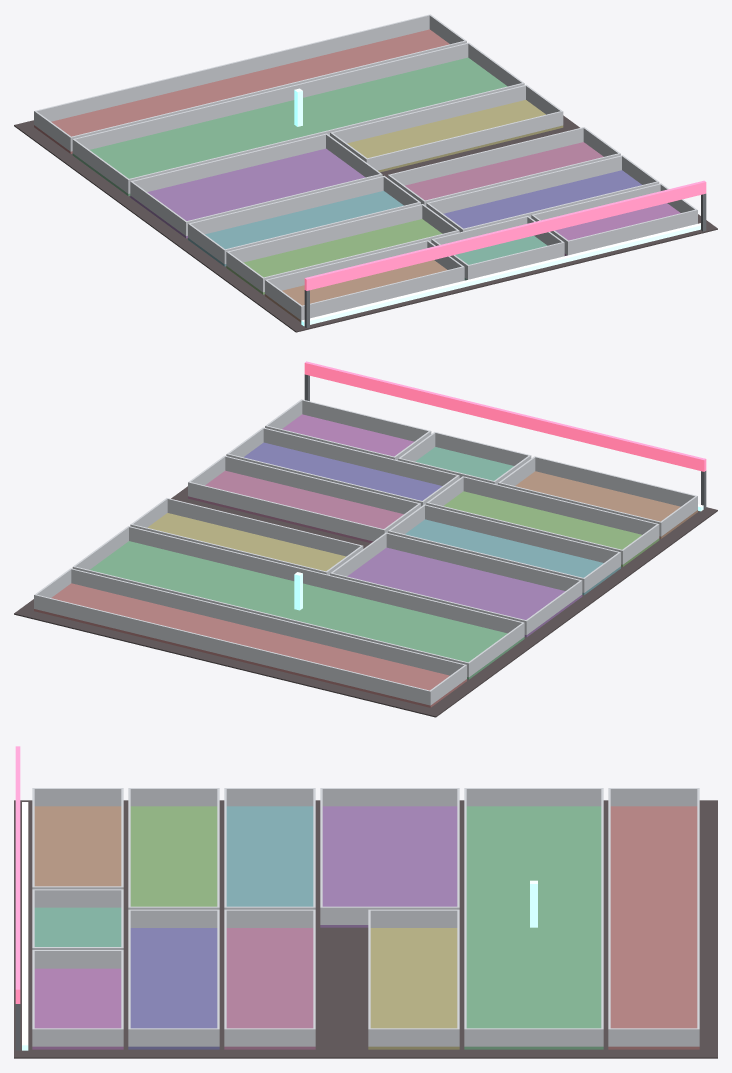
File: hall-refractory.glb
The picture shows the model from 3 angles, top to bottom: view 1: azimuth 30°, elevation 25°; view 2: azimuth 150°, elevation 25°; view 3: azimuth 270°, elevation 25°; orthographic projection. The views are drawn at different scales.
Visible parts, largest first — view 1: Refractory Masons; view 2: Refractory Masons; view 3: Refractory Masons.
Boxes of the visible parts, x1=… form: Refractory Masons: x1=14, y1=14, x2=717, y2=332; Refractory Masons: x1=14, y1=361, x2=717, y2=717; Refractory Masons: x1=14, y1=746, x2=717, y2=1058.
Size of the model in its own units: 38 by 4.3 by 44.
